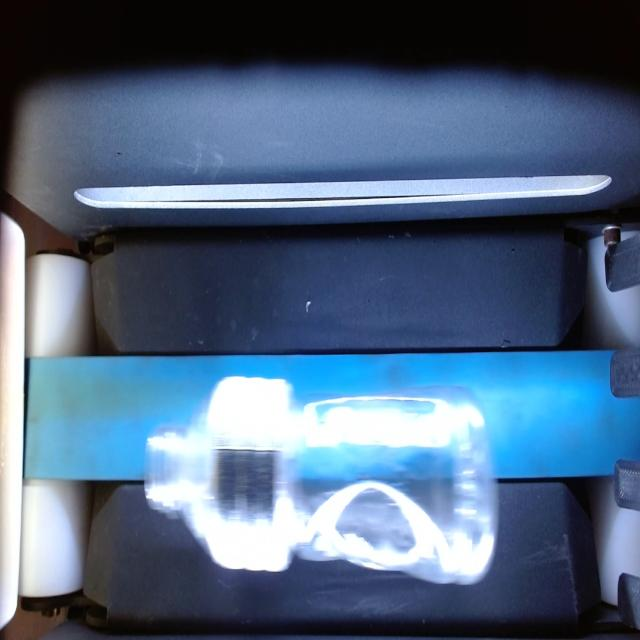bottom: (306, 384, 498, 586)
label: (202, 379, 296, 586)
neck: (145, 407, 203, 530)
